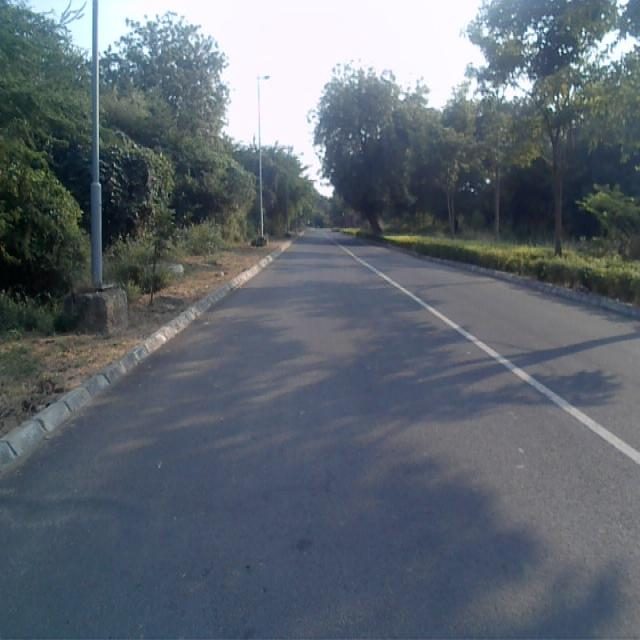lane: (0, 234, 640, 640)
